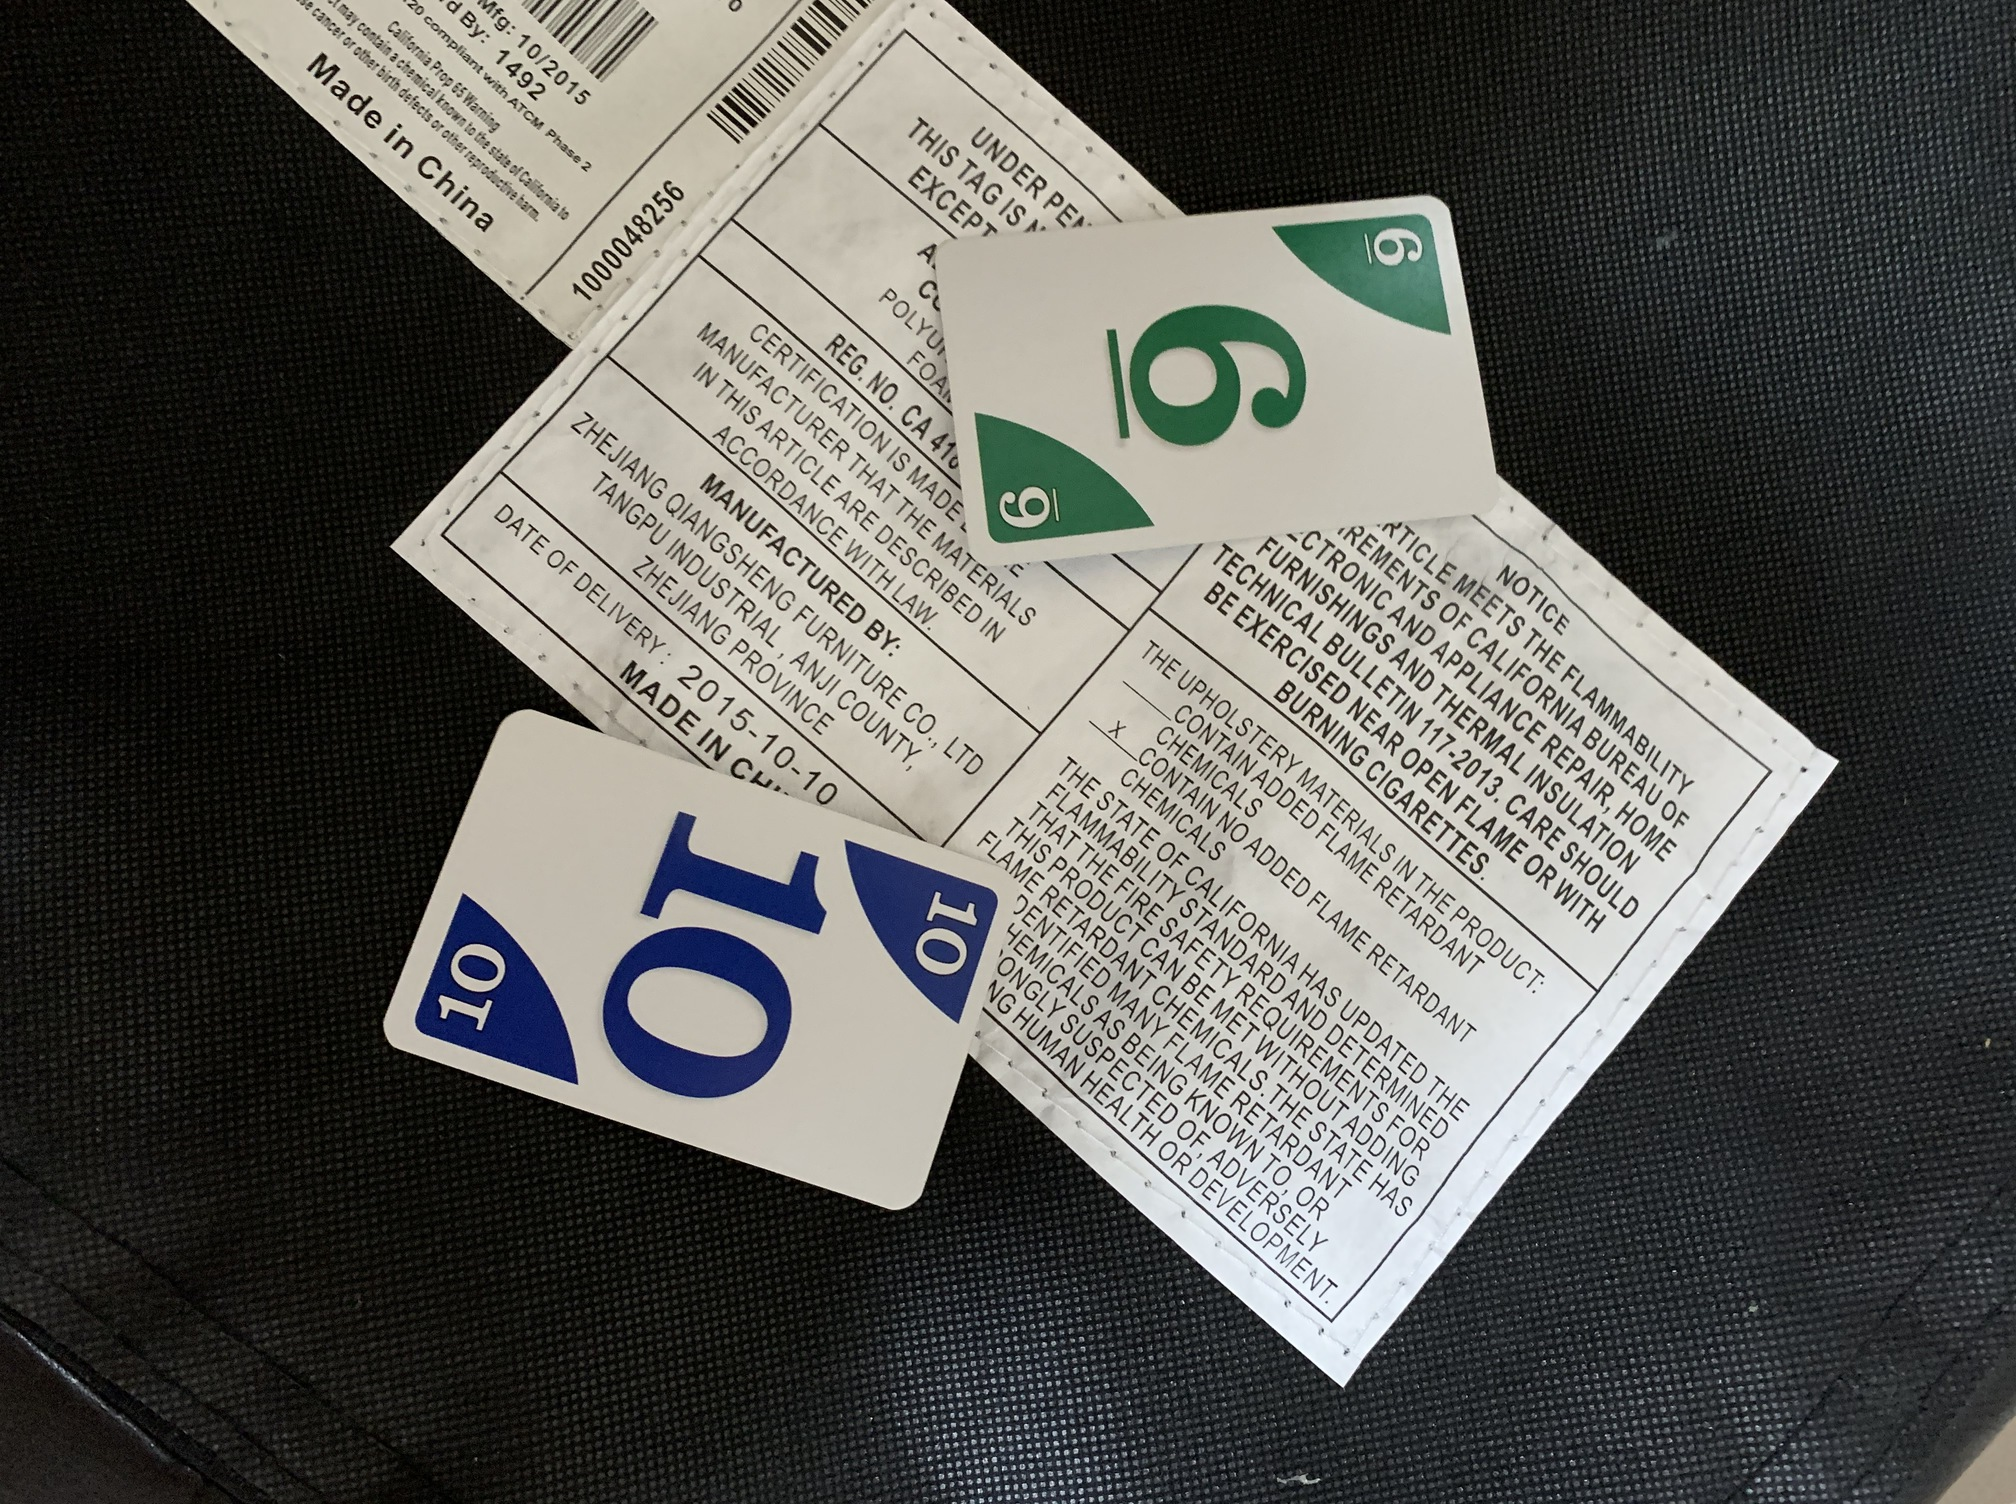six: (935, 180, 1507, 577)
ten: (373, 698, 1006, 1220)
